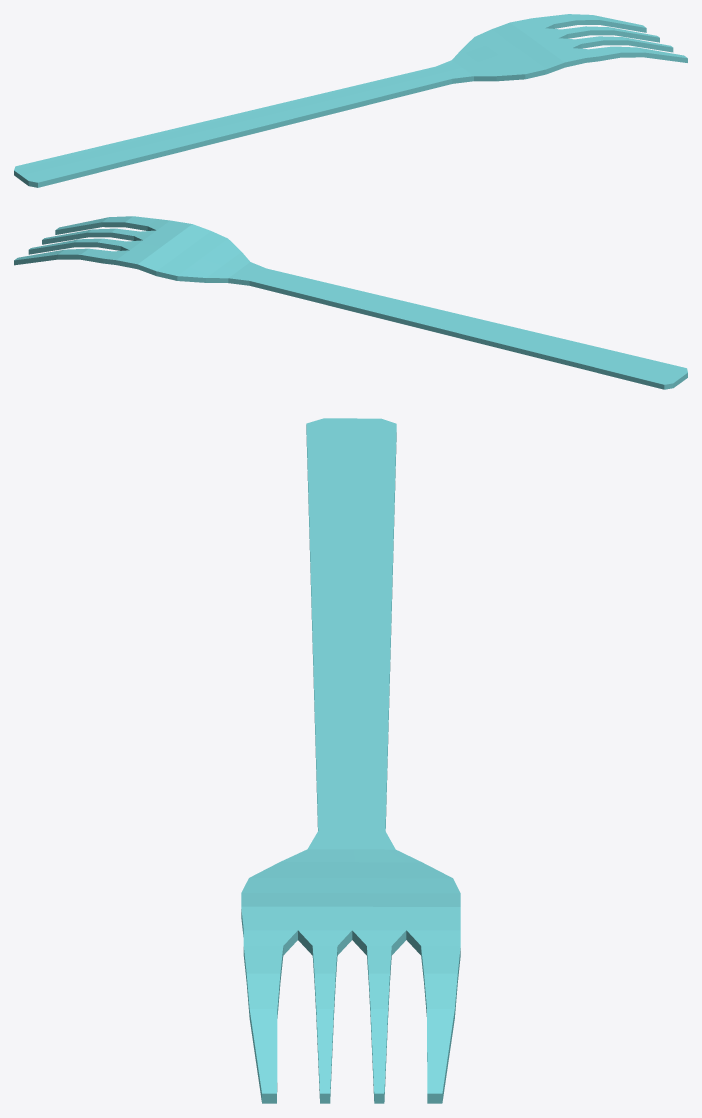
Rendered from Fork Model.fbx.
The picture shows the model from 3 angles, top to bottom: view 1: azimuth 30°, elevation 25°; view 2: azimuth 150°, elevation 25°; view 3: azimuth 270°, elevation 25°; orthographic projection. The views are drawn at different scales.
Parts seen in each view (by area): view 1: Box001; view 2: Box001; view 3: Box001.
Part boxes in pixels (bbox=[...]): Box001: bbox=[14, 14, 687, 187]; Box001: bbox=[14, 216, 687, 389]; Box001: bbox=[241, 418, 460, 1103].
Bounding box in the file's own units: 5.56 × 0.2954 × 0.8209.
